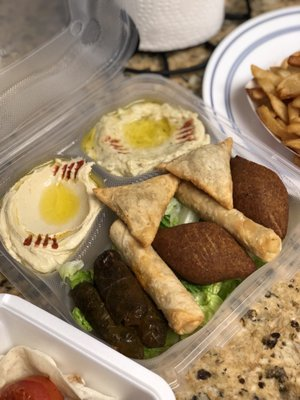sushi: (0, 294, 176, 400), (202, 6, 300, 181)
